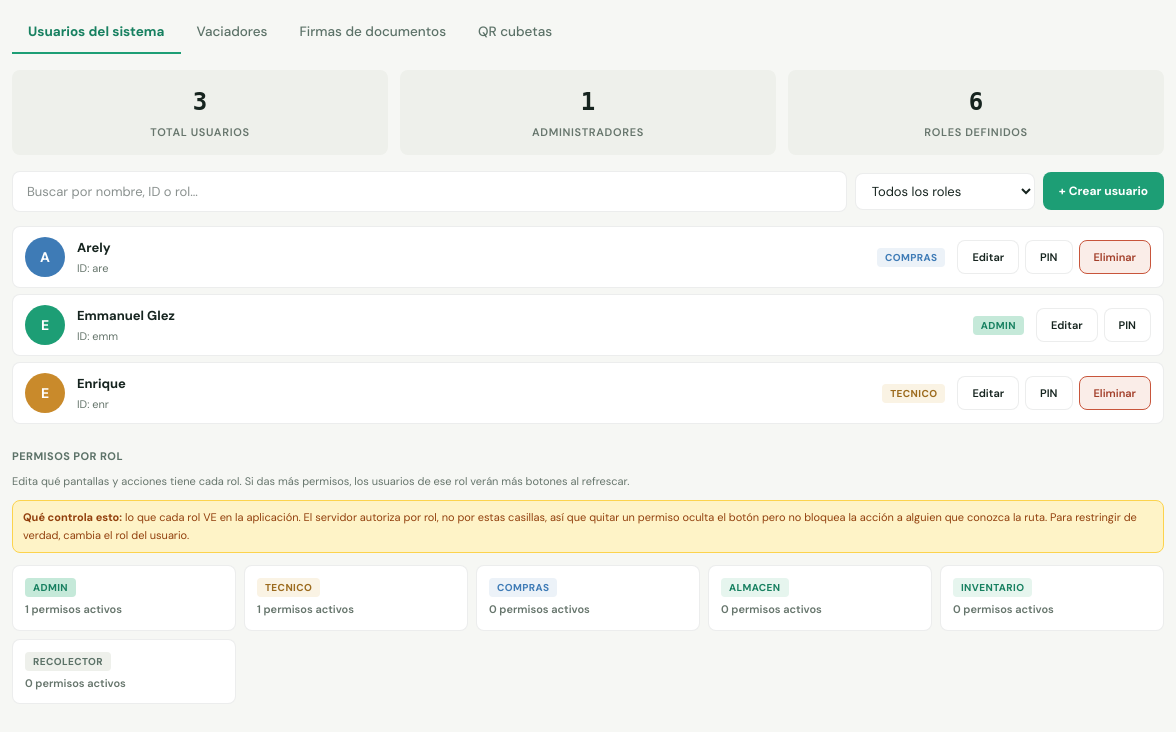
Test: UsuariosPanel › filtra usuarios por búsqueda
Expected: the text "Emmanuel Glez" is shown, [77,307,175,324]
Type "enrique" into the field with placeholder "Buscar por nombre, ID o rol..." at (429, 191), box [12,170,847,212]
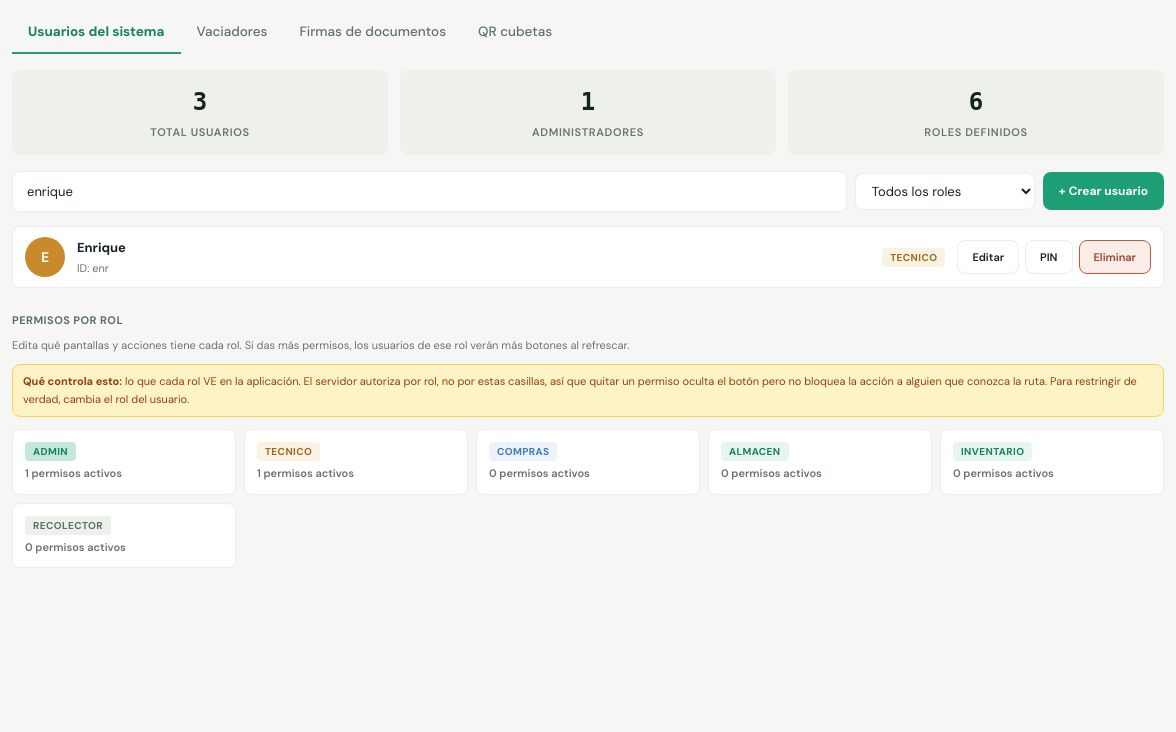
Expected: the text "Enrique" is shown, [77,239,126,256]
Expected: the text "Emmanuel Glez" is gone
